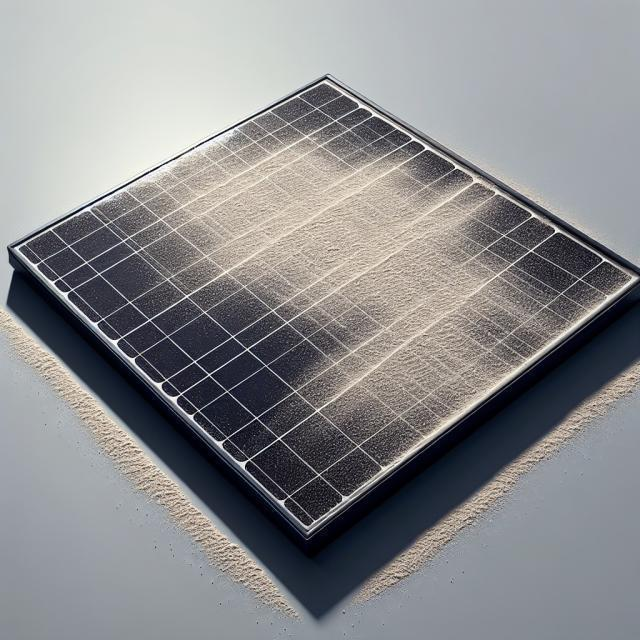Anomaly Solar Panel: (13, 0, 638, 565)
Surface Contaminant: (81, 0, 636, 519)
